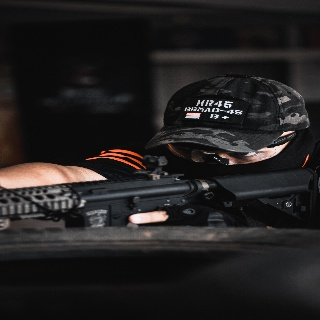rifle: (1, 155, 320, 240)
